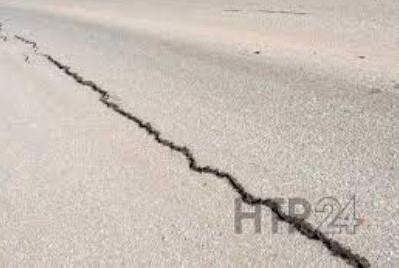pothole: (5, 33, 382, 268)
